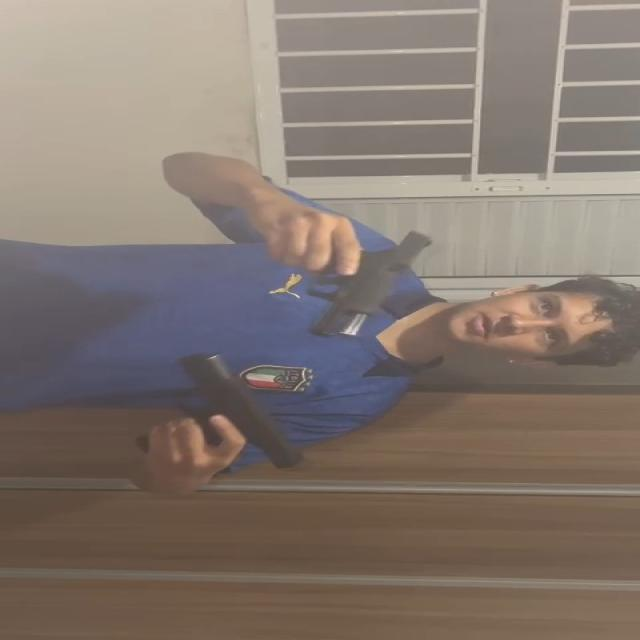gun: (180, 351, 302, 471), (298, 231, 434, 337)
